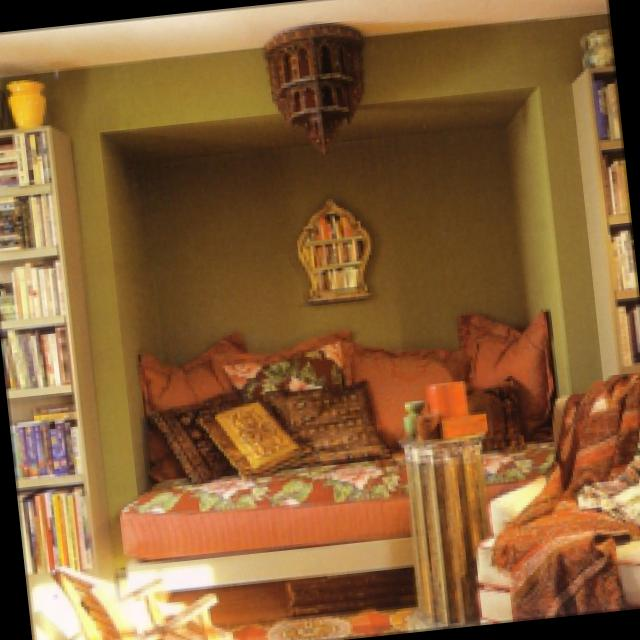alcove: (106, 86, 572, 487)
armchair crop: (487, 377, 640, 614)
blanket: (495, 372, 640, 611)
books crop: (24, 480, 96, 574), (14, 399, 84, 475), (4, 319, 75, 385), (0, 190, 60, 246), (15, 259, 68, 317), (0, 127, 51, 183), (604, 149, 630, 212), (613, 225, 638, 286), (599, 77, 622, 134), (620, 300, 640, 361), (2, 280, 12, 318)
bookshelves: (0, 122, 113, 573), (572, 63, 640, 369)
box contants: (443, 408, 493, 439)
candle holder: (422, 372, 470, 431)
chair -occluded-: (55, 563, 238, 640)
mattress: (126, 434, 548, 554)
pillow occluded: (344, 333, 472, 446), (467, 307, 556, 436), (266, 378, 397, 462), (151, 385, 250, 484), (202, 396, 315, 478), (138, 331, 248, 409), (215, 328, 353, 389)
pillows: (146, 297, 551, 476)
small table part: (405, 432, 493, 620)
sofa bed: (126, 433, 558, 626)
vase -X: (8, 74, 53, 125), (585, 23, 614, 68)
vases: (403, 395, 445, 438)
wall lamp: (266, 15, 362, 143), (299, 191, 377, 301)
